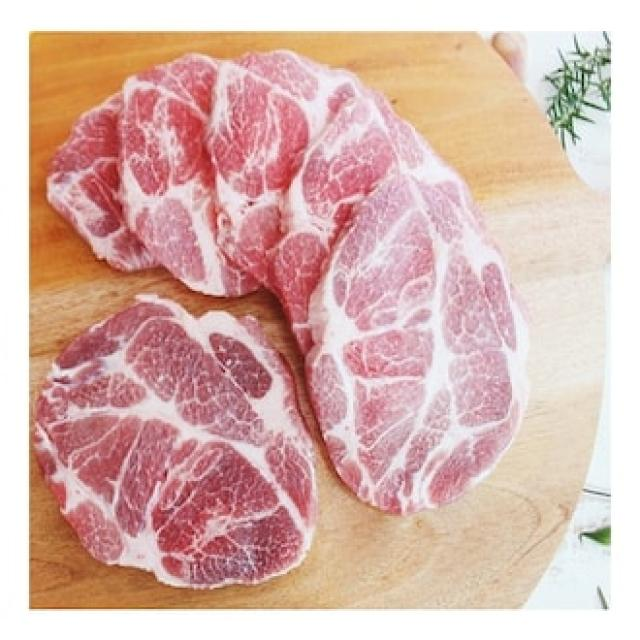pork: (52, 41, 505, 570)
